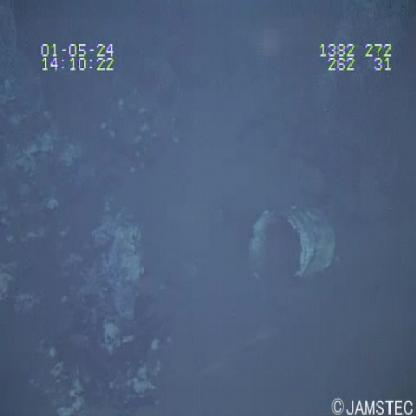Rác: (242, 179, 345, 291)
